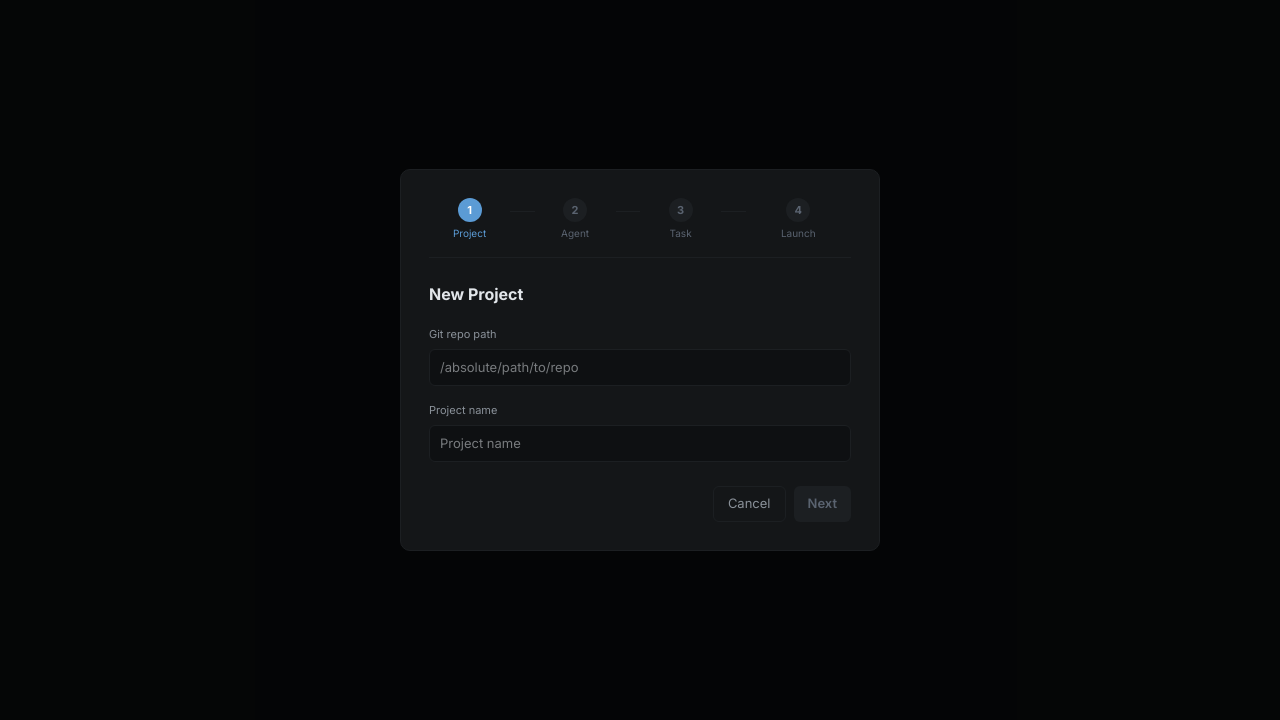
Test case: NewProjectWizard › shows Task step when agent is configured
Step 1. Type "/home/user/my-repo" into the field with placeholder "/absolute/path/to/repo" → {"x": 640, "y": 368}, box [429,349,851,386]
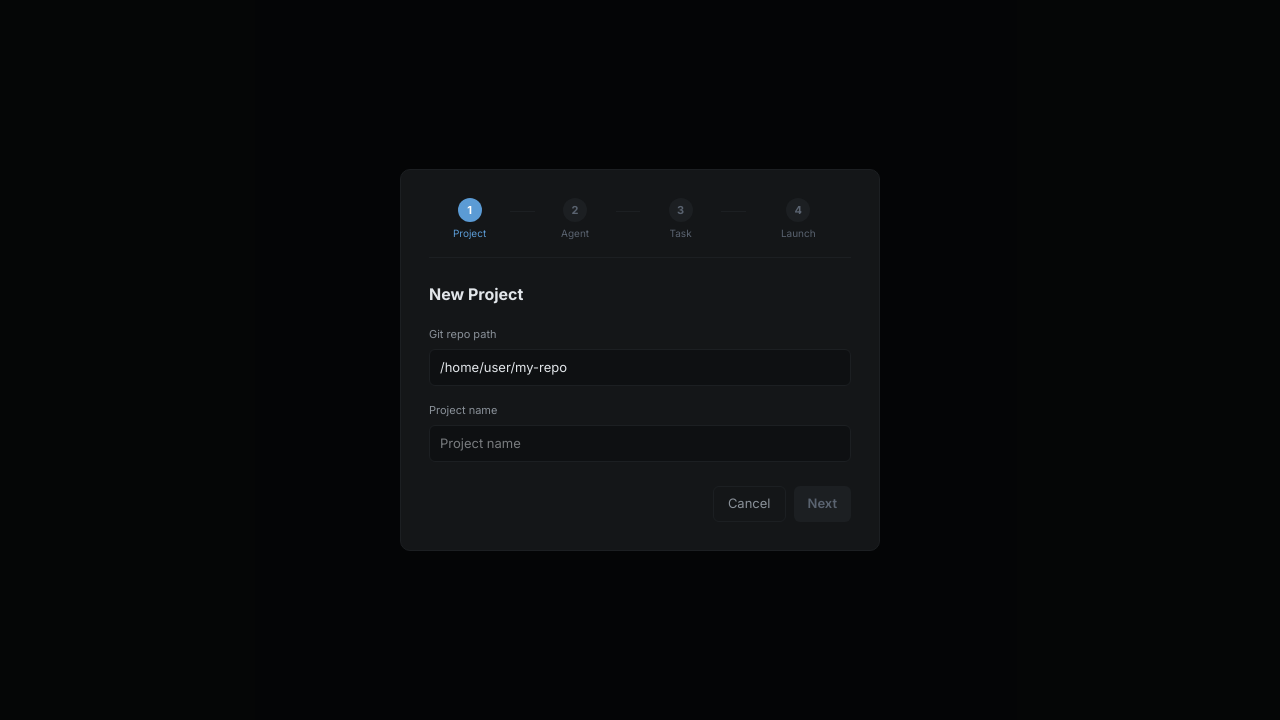
Step 2. Leave the field with placeholder "/absolute/path/to/repo", box [429,349,851,386]
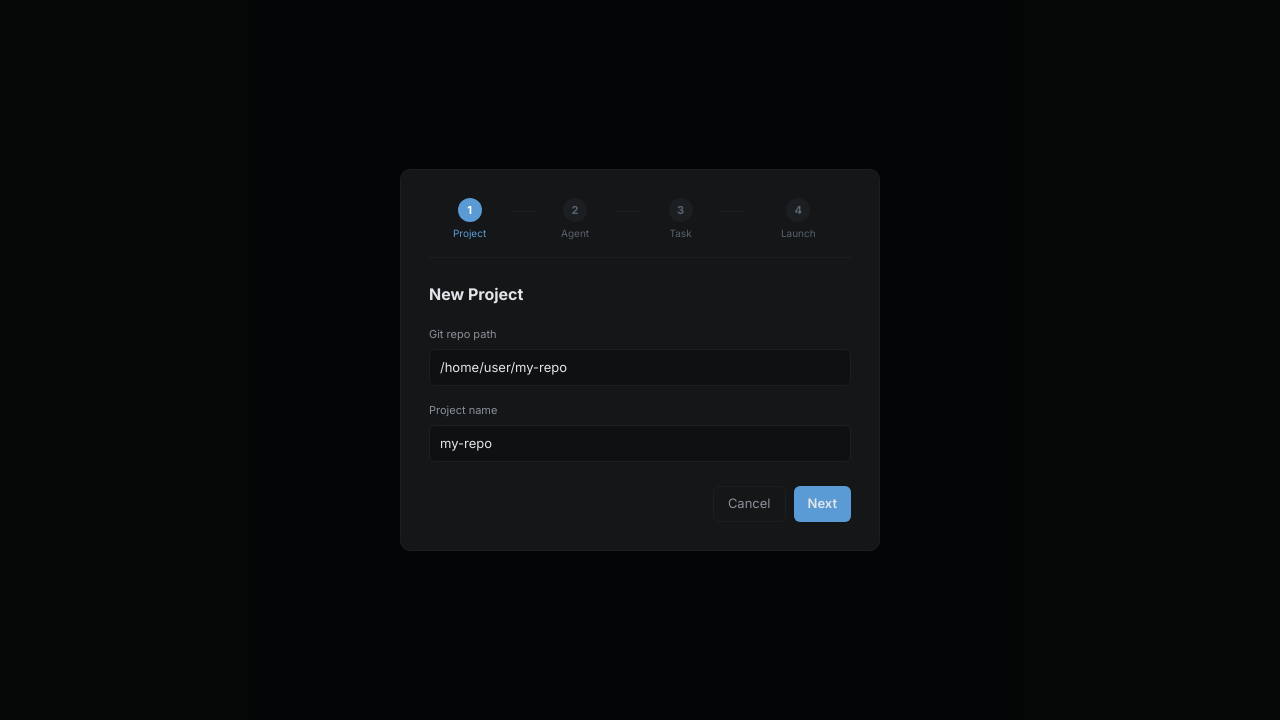
Now the button "Next" is enabled
Step 3. Click the button "Next" → {"x": 822, "y": 504}, box [794,486,851,522]
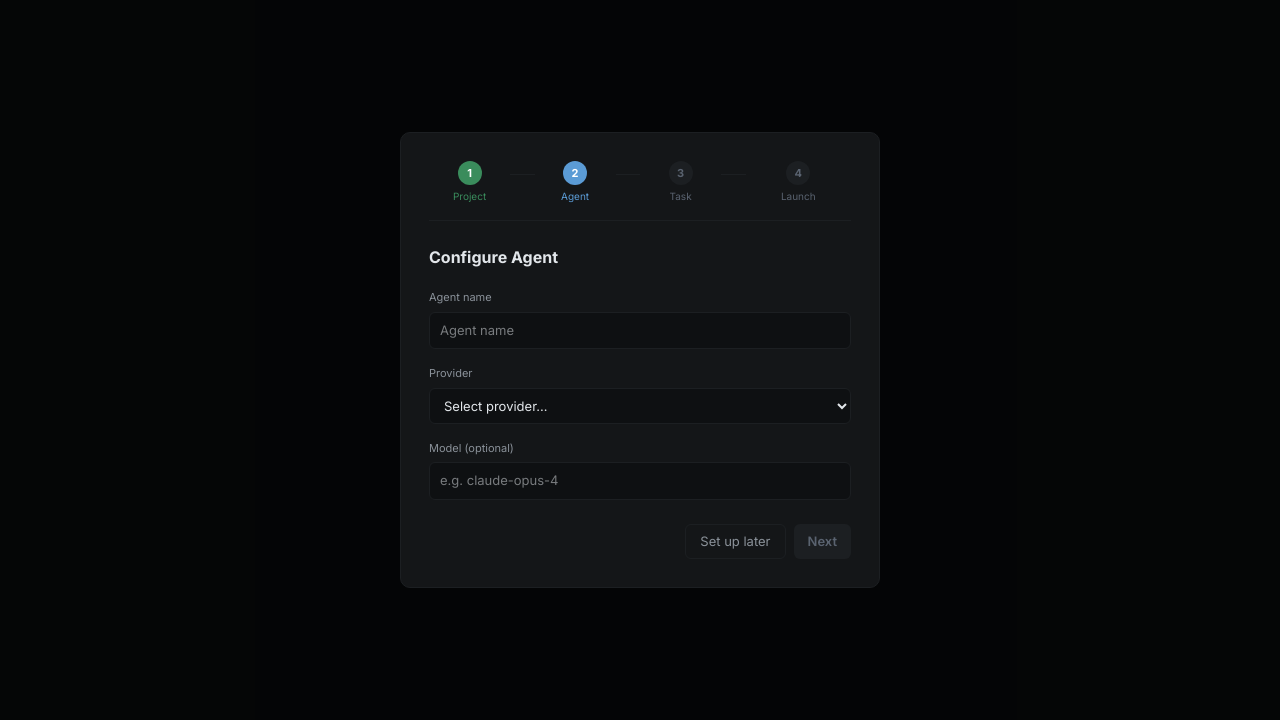
Now the field with placeholder "Agent name" is shown
Step 4. Type "Dev" into the field with placeholder "Agent name" → {"x": 640, "y": 330}, box [429,312,851,349]
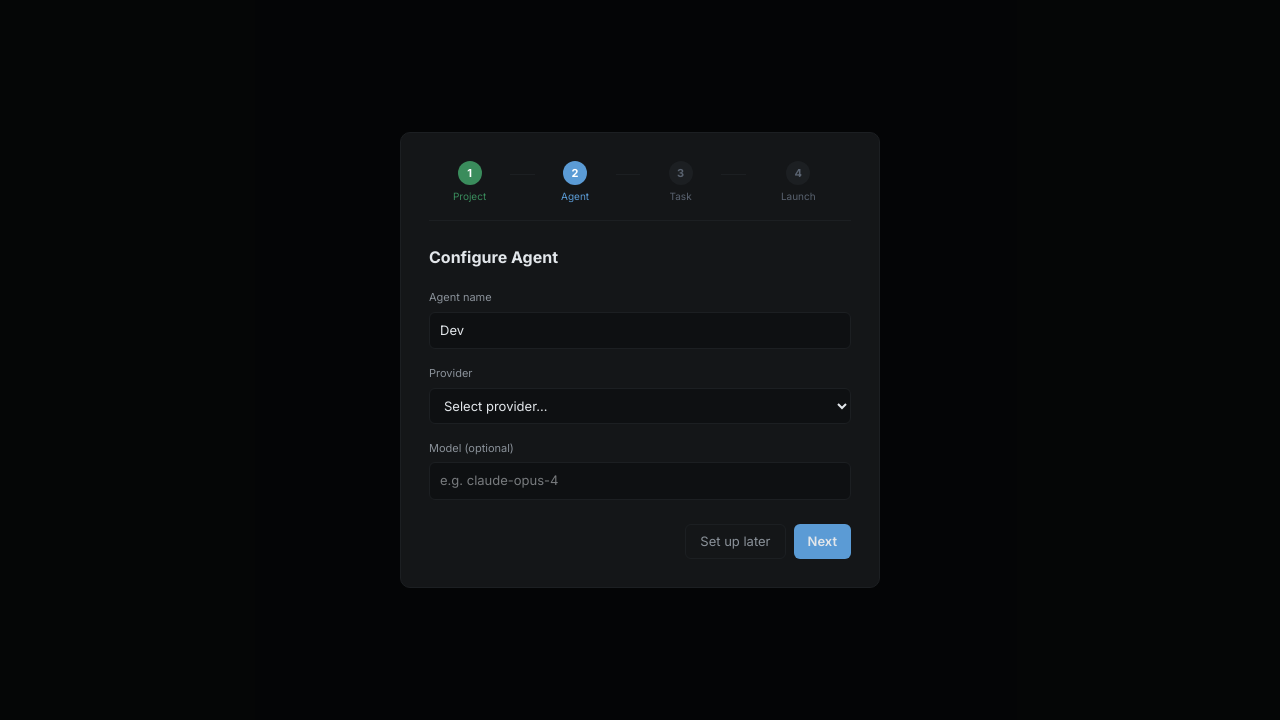
Step 5. Click the button "Next" → {"x": 822, "y": 541}, box [794,524,851,559]
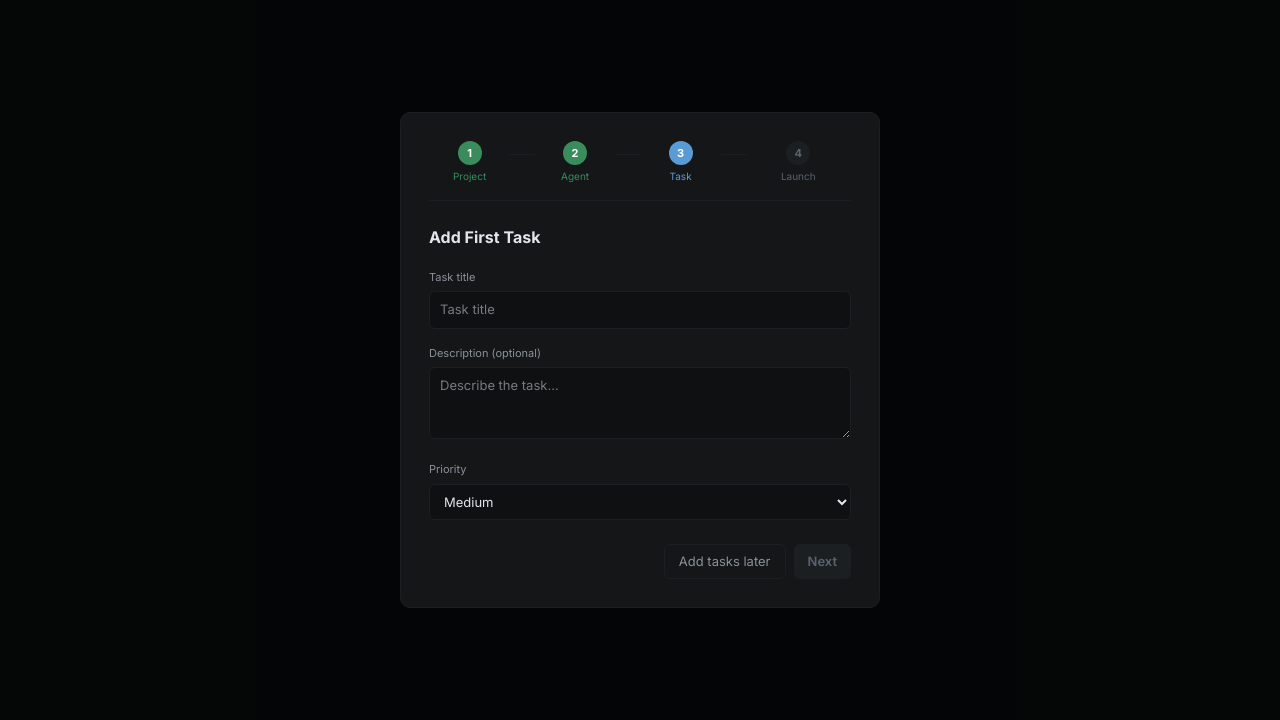
Now the field with placeholder "Task title" is shown, box [429,291,851,329]
